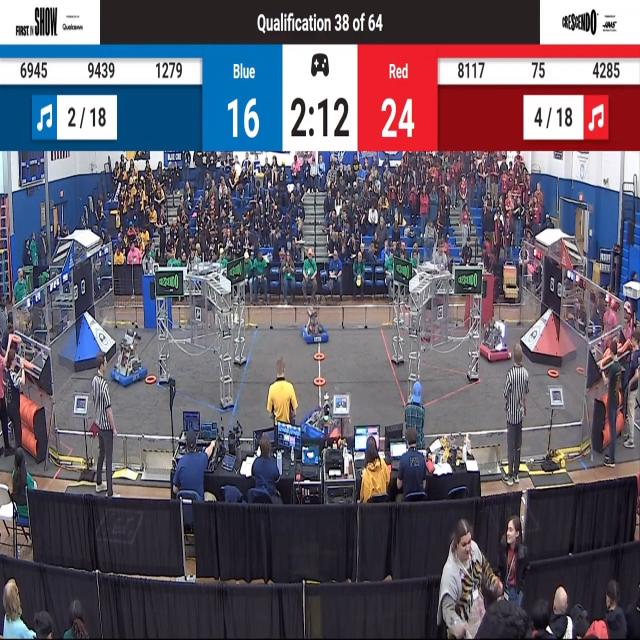Robot: (304, 383, 345, 444), (110, 325, 146, 391), (476, 313, 511, 366), (301, 307, 330, 349)
